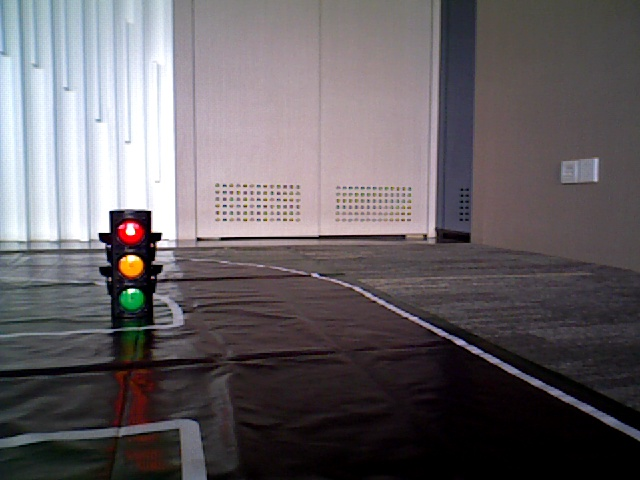red: (111, 213, 149, 315)
